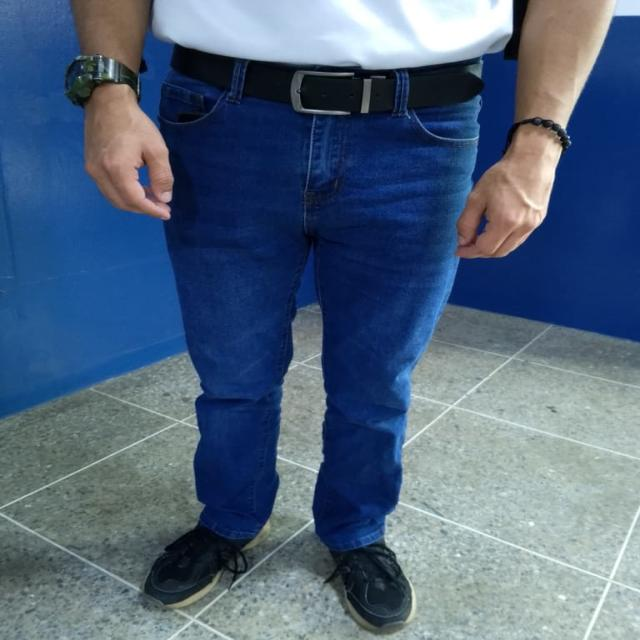pantalon_oscuro: (157, 68, 481, 550)
